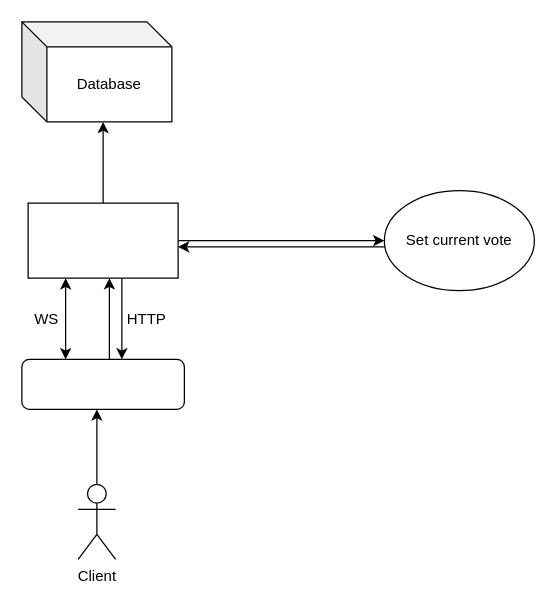
Some shapes in this 556 by 608 pixel diagram are drawn without their labels. Here are the shapes that lost their labels. From the top down, the box of each, then its label:
(27, 202, 178, 278): GraphQL Engine
(21, 358, 184, 409): SPA
